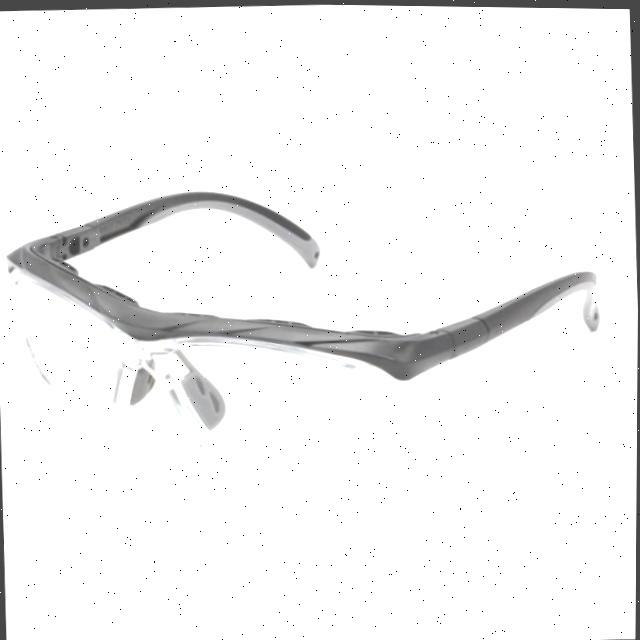goggles_on: (0, 188, 612, 470)
